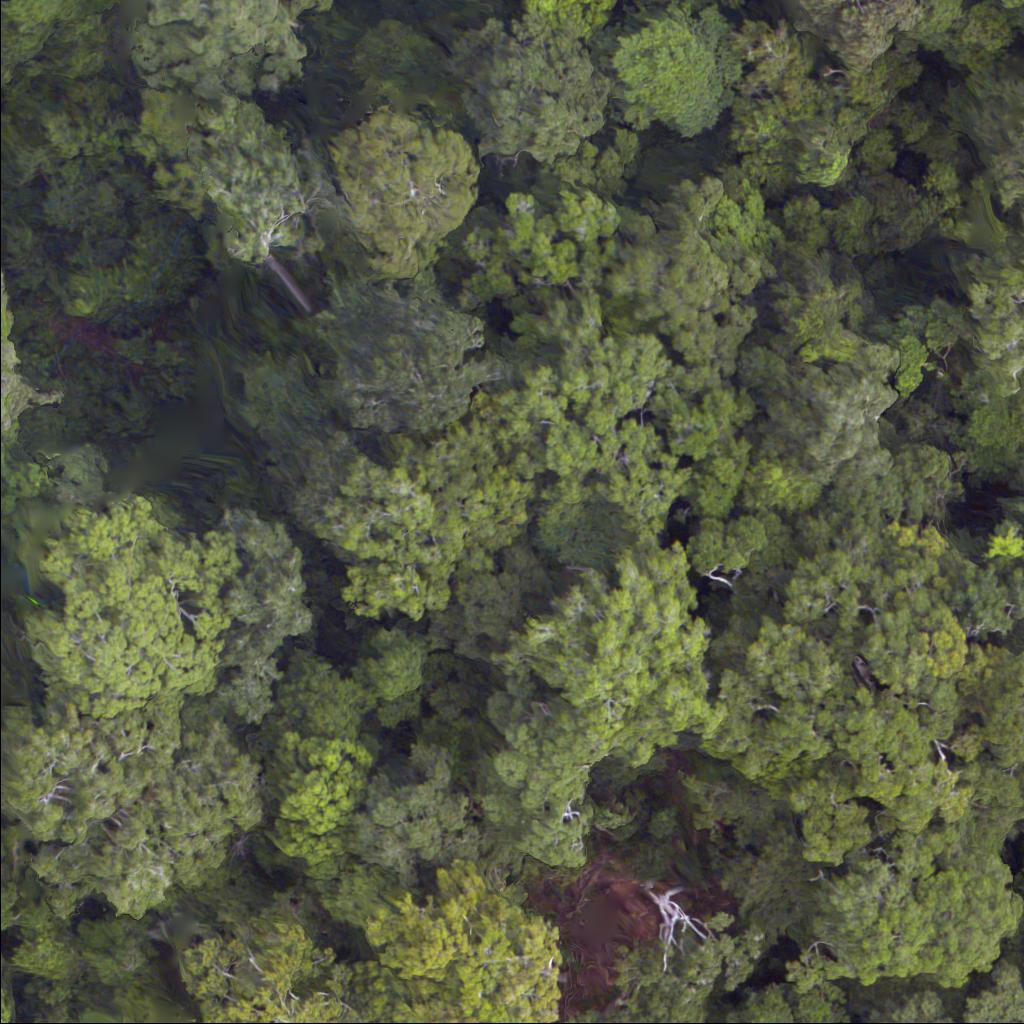crown: (694, 543, 1023, 867), (488, 561, 727, 868), (0, 711, 250, 917), (476, 289, 686, 515), (345, 843, 579, 1023), (317, 438, 530, 612), (314, 114, 481, 279), (143, 104, 317, 256), (174, 903, 349, 1023), (474, 24, 623, 158), (936, 244, 1023, 448), (127, 0, 297, 100), (762, 0, 932, 90), (620, 11, 742, 128), (867, 968, 1023, 1023), (726, 980, 853, 1023), (982, 95, 1023, 192)
